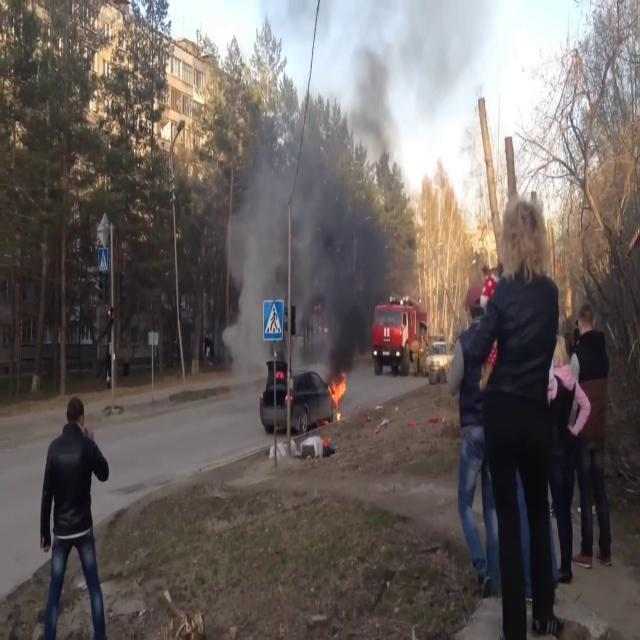Fire: (328, 370, 350, 416)
Smoke: (222, 96, 384, 361)
